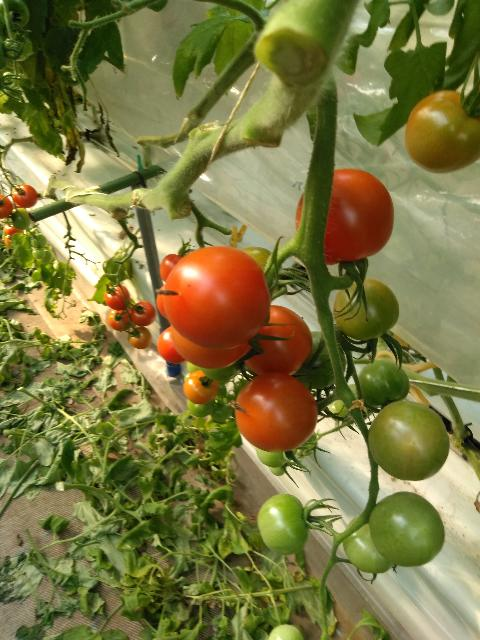l_fully_ripened: (163, 246, 270, 350), (295, 169, 395, 266), (235, 373, 319, 453), (243, 304, 313, 376), (171, 325, 249, 369), (157, 325, 187, 364), (104, 285, 130, 311), (130, 301, 156, 327), (13, 184, 37, 208), (0, 194, 14, 219)
l_green: (368, 400, 450, 481), (368, 491, 445, 567), (333, 278, 400, 342), (257, 493, 311, 555), (290, 331, 346, 390), (342, 513, 394, 574), (359, 358, 409, 408), (201, 356, 244, 382), (241, 247, 273, 273), (256, 448, 294, 468), (160, 254, 182, 282), (186, 398, 214, 418), (267, 625, 304, 640), (210, 398, 233, 422), (12, 207, 31, 230), (30, 233, 46, 249), (35, 250, 52, 264), (268, 466, 286, 476), (32, 248, 44, 260)
l_half_ripened: (406, 89, 480, 175), (183, 370, 219, 404), (108, 307, 134, 332), (128, 326, 152, 349)
